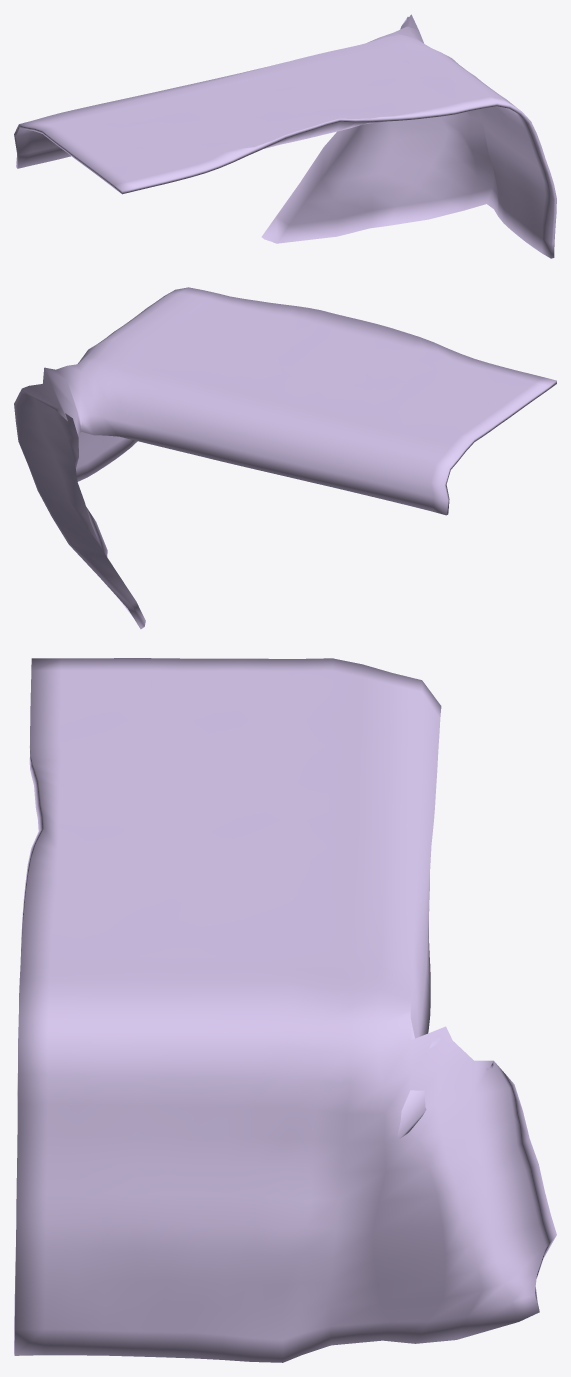
Rendered from throw.fbx.
The picture shows the model from 3 angles, top to bottom: view 1: azimuth 30°, elevation 25°; view 2: azimuth 150°, elevation 25°; view 3: azimuth 270°, elevation 25°; orthographic projection. The views are drawn at different scales.
Visible parts, largest first — view 1: Plaid; view 2: Plaid; view 3: Plaid.
Part boxes in pixels (x1,y1,x2,y2): Plaid: (14, 14, 556, 258); Plaid: (14, 287, 556, 629); Plaid: (14, 658, 556, 1362).
Bounding box in the file's own units: 1.08 × 0.5487 × 0.6211.
